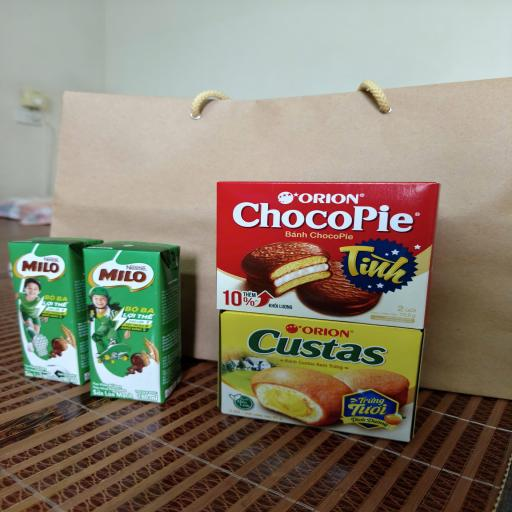chocopie: (216, 181, 440, 330)
custas: (217, 310, 424, 442)
milo: (82, 241, 181, 403), (8, 237, 103, 386)
